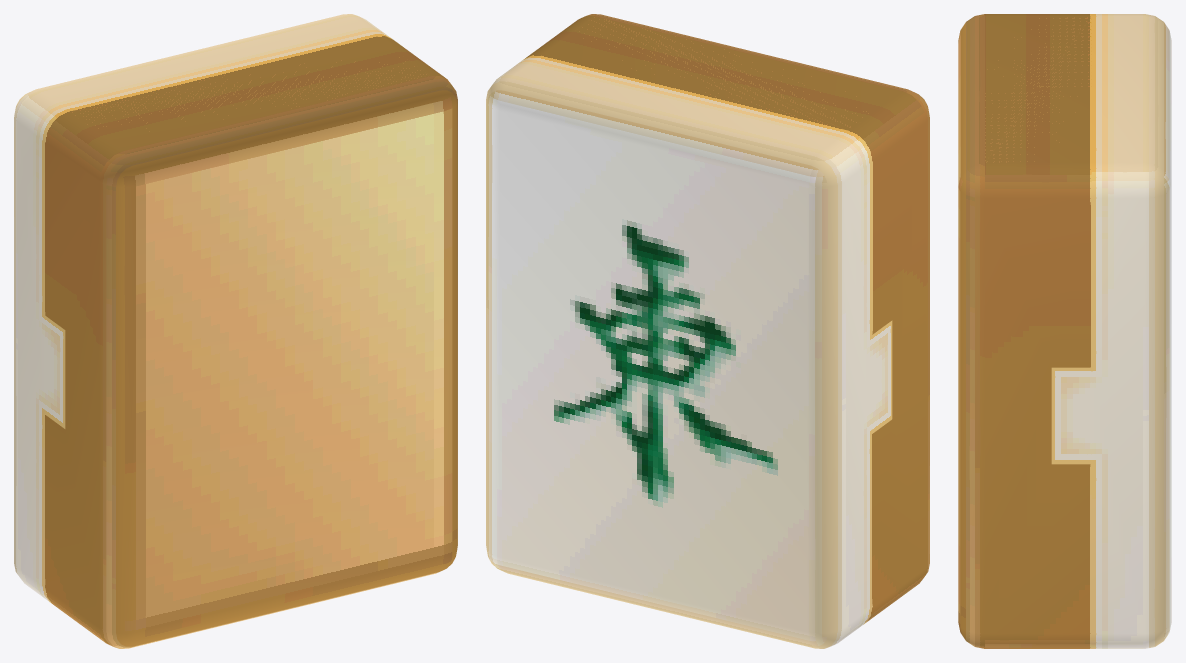
File: ps2_save-icons_aimahjong2003.glb
The picture shows the model from 3 angles, left to right: view 1: azimuth 30°, elevation 25°; view 2: azimuth 150°, elevation 25°; view 3: azimuth 270°, elevation 25°; orthographic projection. The views are drawn at different scales.
Parts seen in each view (by area): view 1: Majiang.ico; view 2: Majiang.ico; view 3: Majiang.ico.
Boxes of the visible parts, x1=… form: Majiang.ico: x1=14, y1=14, x2=457, y2=648; Majiang.ico: x1=486, y1=14, x2=929, y2=648; Majiang.ico: x1=958, y1=14, x2=1171, y2=648.
Bounding box in the file's own units: 1.41 × 1.88 × 0.75.
Materials: 1 (1 with a texture image).
